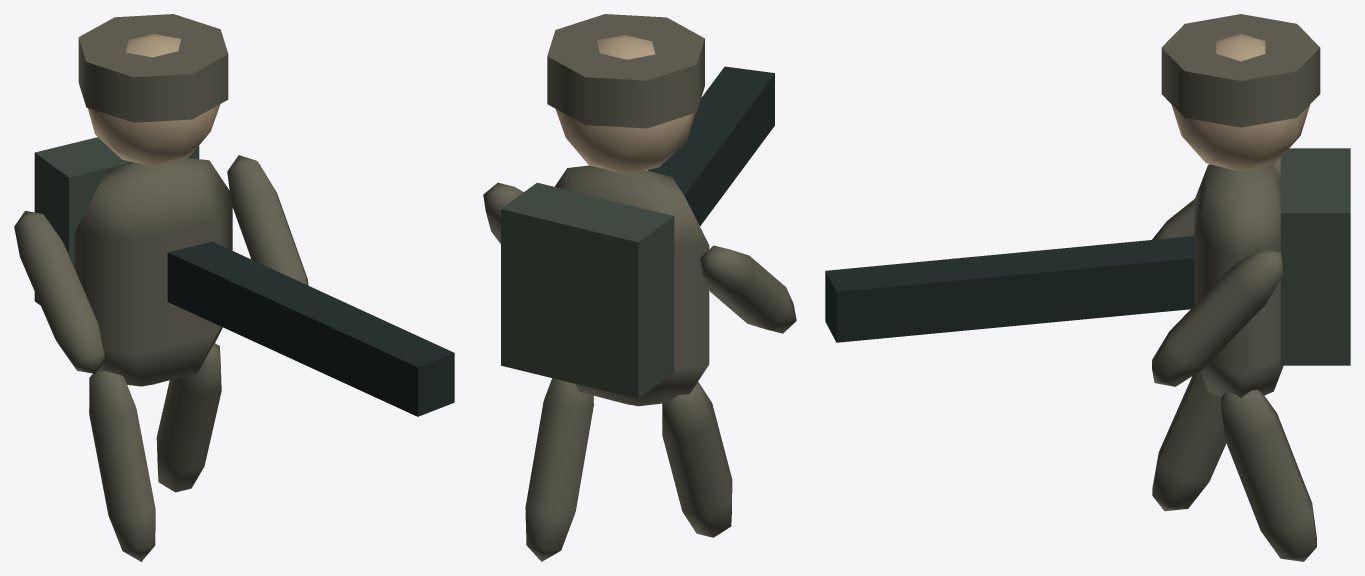
The model's file is rifle.glb.
3 views of the same model, side by side, from view 1: azimuth 30°, elevation 25°; view 2: azimuth 150°, elevation 25°; view 3: azimuth 270°, elevation 25° (orthographic). The views are drawn at different scales.
Parts seen in each view (by area): view 1: rifle; view 2: rifle; view 3: rifle.
Part boxes in pixels (x1,y1,x2,y2): rifle: (14,14,454,561); rifle: (483,14,796,561); rifle: (825,14,1350,561).
Bounding box in the file's own units: 1.29 × 2.35 × 2.25.
